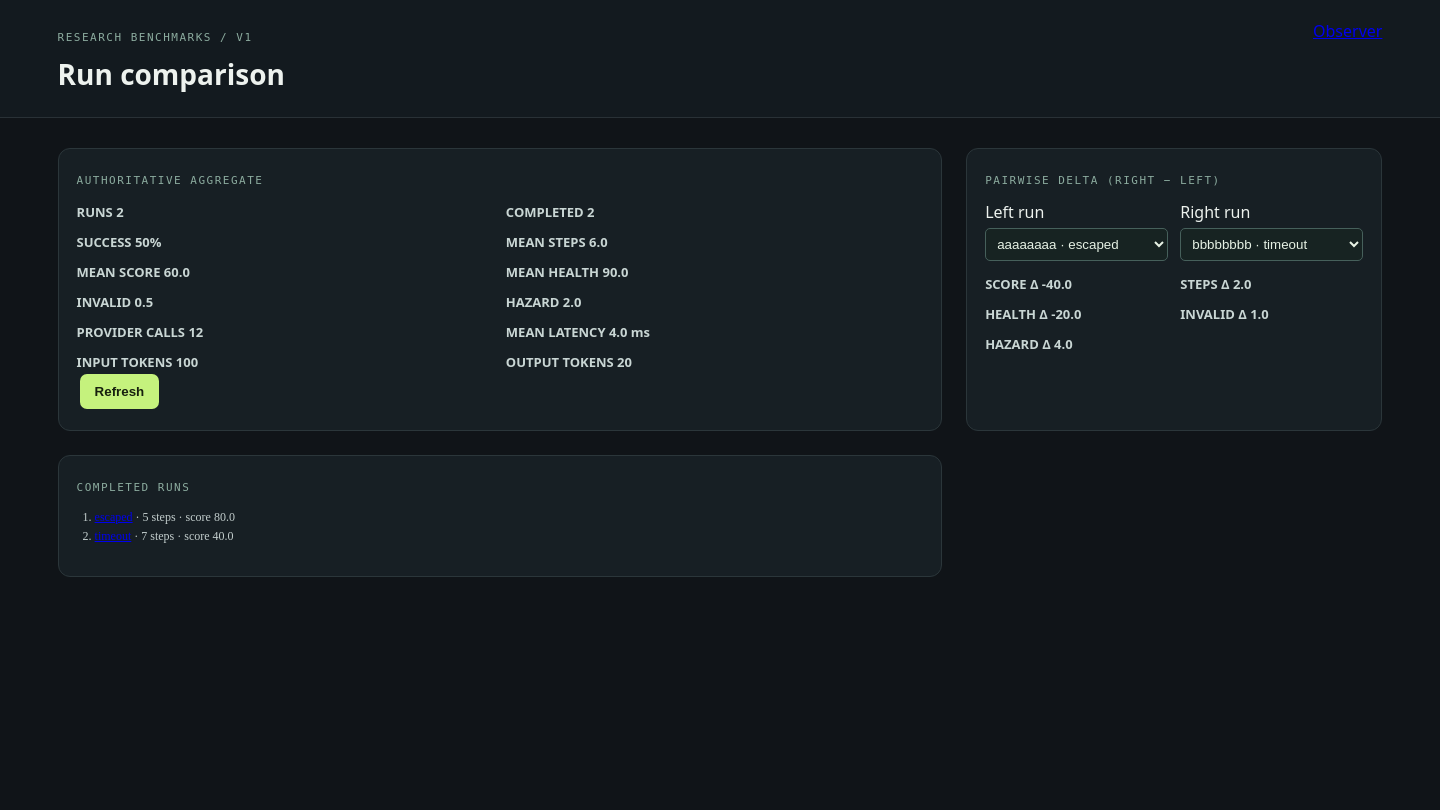
Test: compares two authoritative completed runs with directional deltas
Expected: the text "SCORE Δ -40.0" is shown, 985,275 -> 1072,293
Expected: the text "STEPS Δ 2.0" is shown, 1180,275 -> 1252,293
Step 1. Select "aaaaaaaa · escaped" in the dropdown labelled "Right run" → [1272, 244], box 1180,228 -> 1363,261
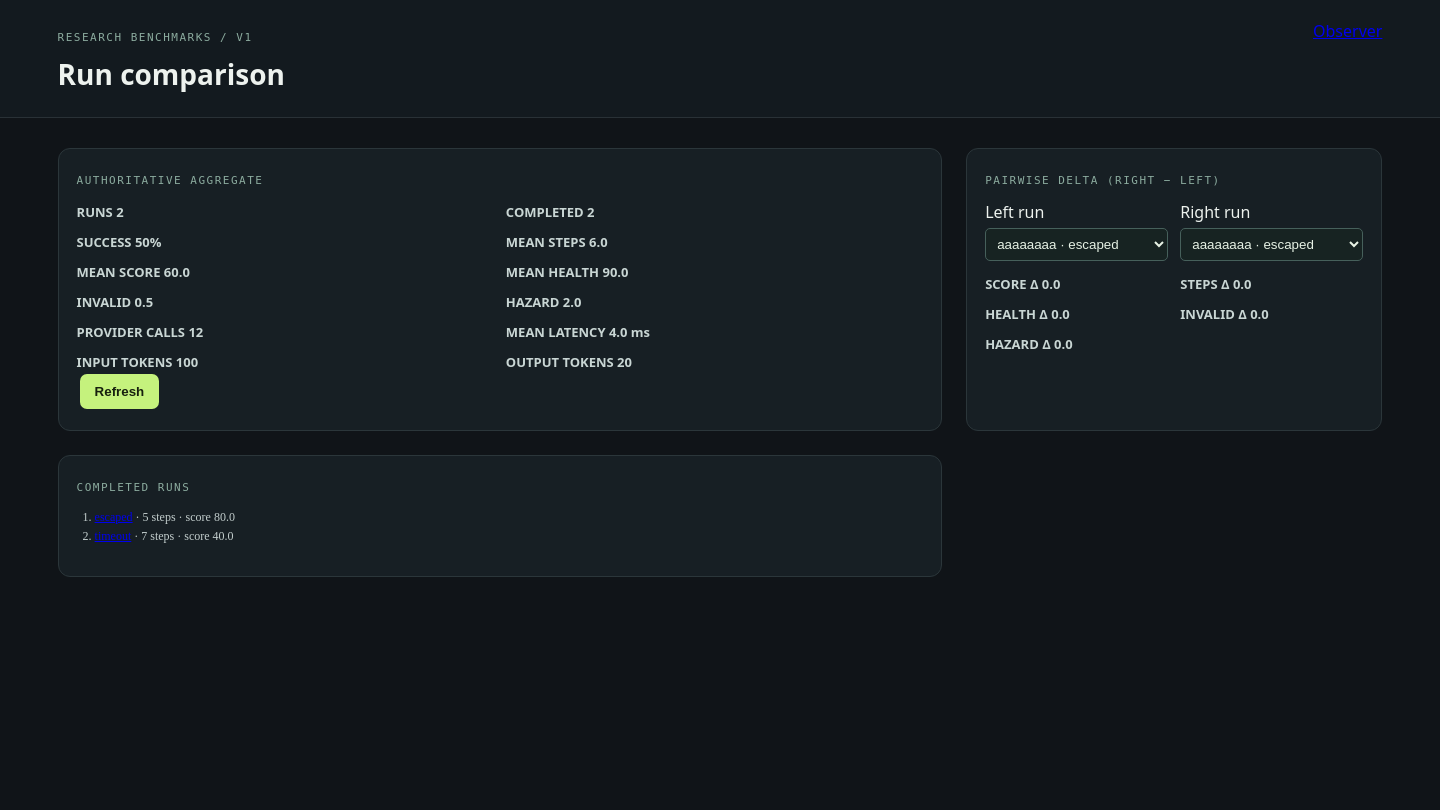
Expected: the text "SCORE Δ 0.0" is shown, 985,275 -> 1060,293
